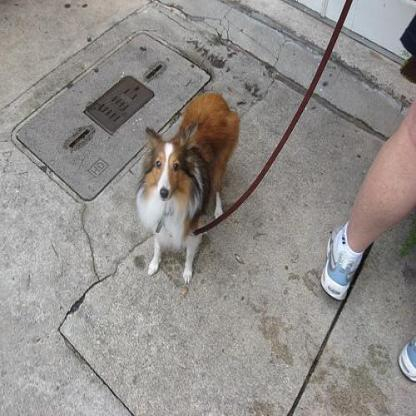collie: (132, 66, 246, 302)
